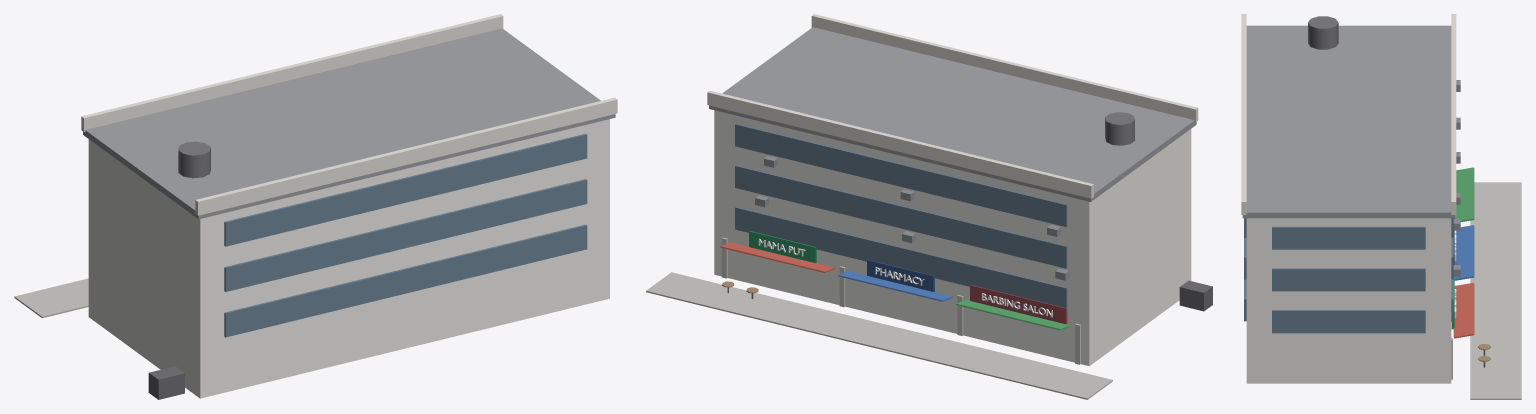
Rendered from wuse_block_3.glb.
The picture shows the model from 3 angles, left to right: view 1: azimuth 30°, elevation 25°; view 2: azimuth 150°, elevation 25°; view 3: azimuth 270°, elevation 25°; orthographic projection. The views are drawn at different scales.
Visible parts, largest first — view 1: BLD_wuse_block_3; view 2: BLD_wuse_block_3; view 3: BLD_wuse_block_3.
Boxes of the visible parts, box(x1,y1,x2,y2) form: BLD_wuse_block_3: box(14, 14, 617, 399); BLD_wuse_block_3: box(646, 14, 1212, 399); BLD_wuse_block_3: box(1241, 14, 1521, 399).
Bounding box in the file's own units: 40 × 16.7 × 21.9.
